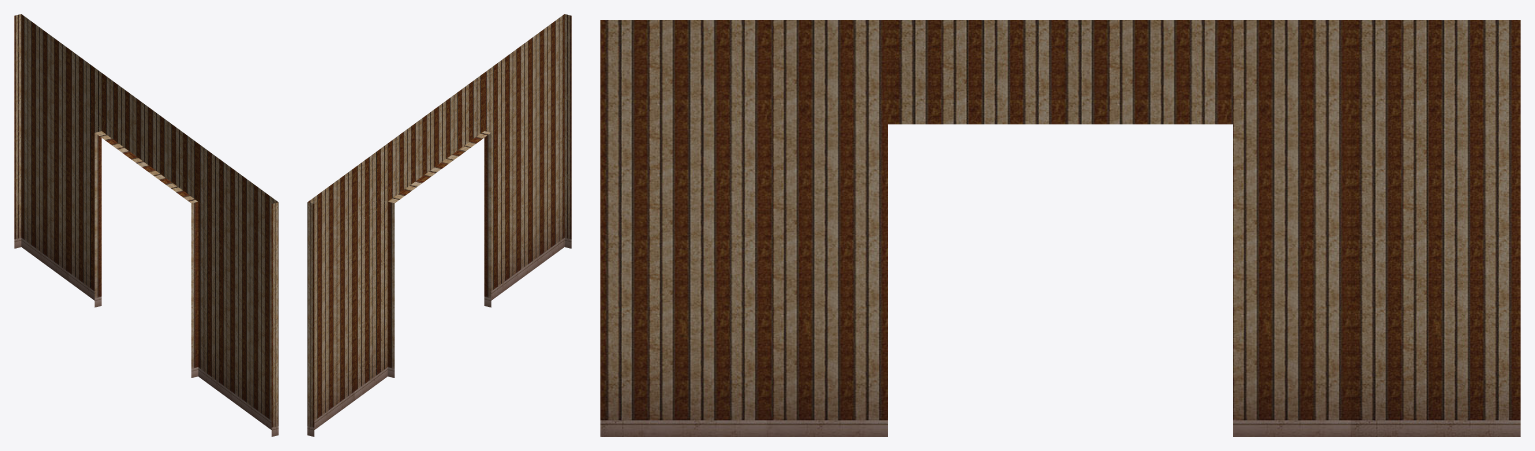
Rendered from door-frame_8x4_N.obj.
3 renders of one model, left to right at view 1: azimuth 30°, elevation 25°; view 2: azimuth 150°, elevation 25°; view 3: azimuth 270°, elevation 25°, orthographic. The views are drawn at different scales.
Visible parts, largest first — view 1: door-frame_8x4_N_Cube.013; view 2: door-frame_8x4_N_Cube.013; view 3: door-frame_8x4_N_Cube.013.
Boxes of the visible parts, x1,y1,x2,y2 form: door-frame_8x4_N_Cube.013: (14,14,278,436); door-frame_8x4_N_Cube.013: (307,14,571,436); door-frame_8x4_N_Cube.013: (600,20,1520,436).
Size of the model in its own units: 0.125 by 4 by 8.
